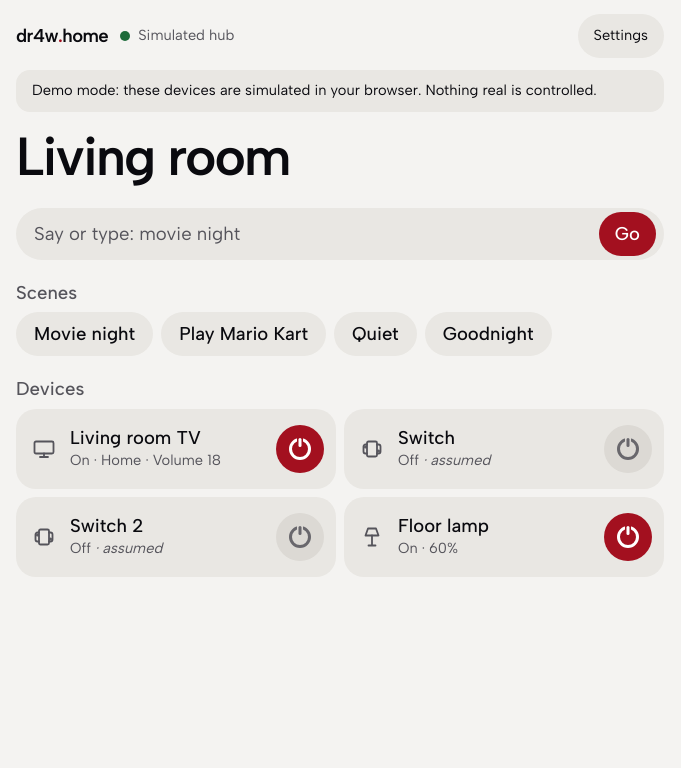
Test: shows the change at once and rolls back when the TV does not confirm
Expected: the text "On · Home · Volume 18" is shown, left=70, top=451, right=221, bottom=469
Click the button named "Living room TV: turn off" at point(300, 449), box left=276, top=425, right=324, bottom=473
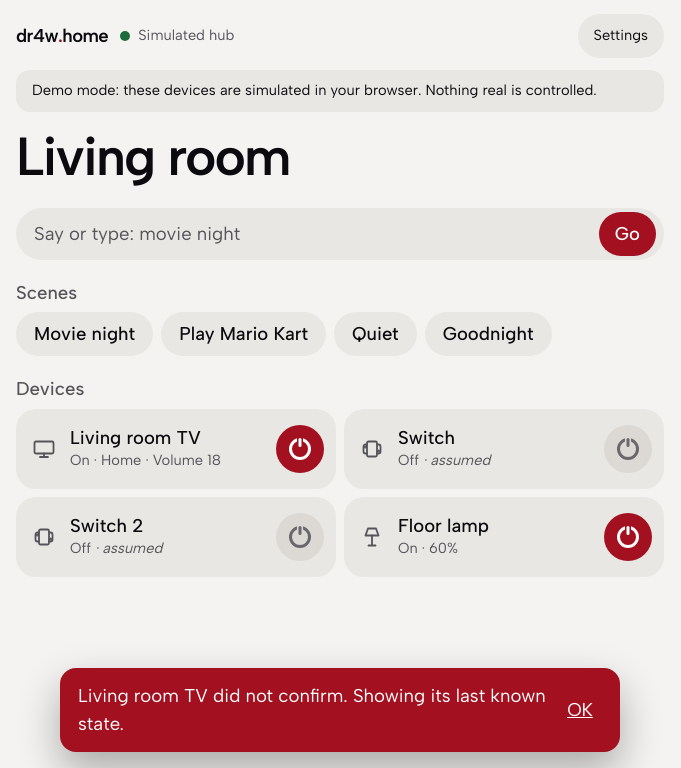
Expected: the button with aria-label "Open Living room TV. On" is shown, left=70, top=421, right=262, bottom=477
Result: the text "did not confirm" is shown at left=78, top=684, right=546, bottom=735
